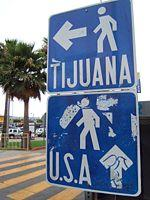Pedestrian Crossing: (36, 3, 144, 190)
